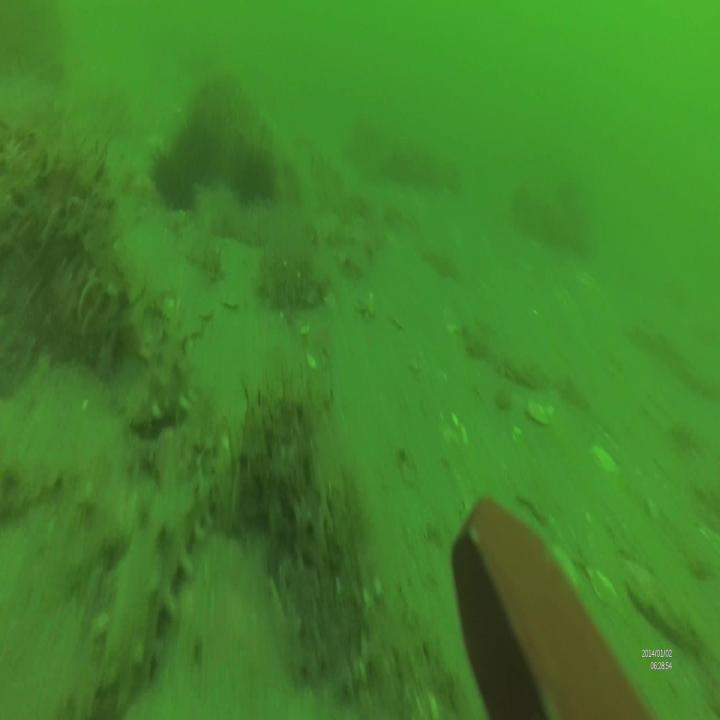echinus: (148, 145, 198, 214), (233, 152, 272, 205)
holothurian: (103, 426, 227, 704)
